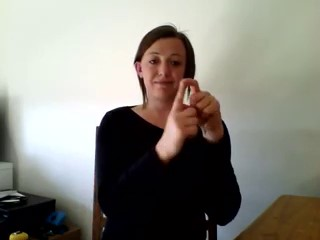D: (152, 73, 233, 156)
